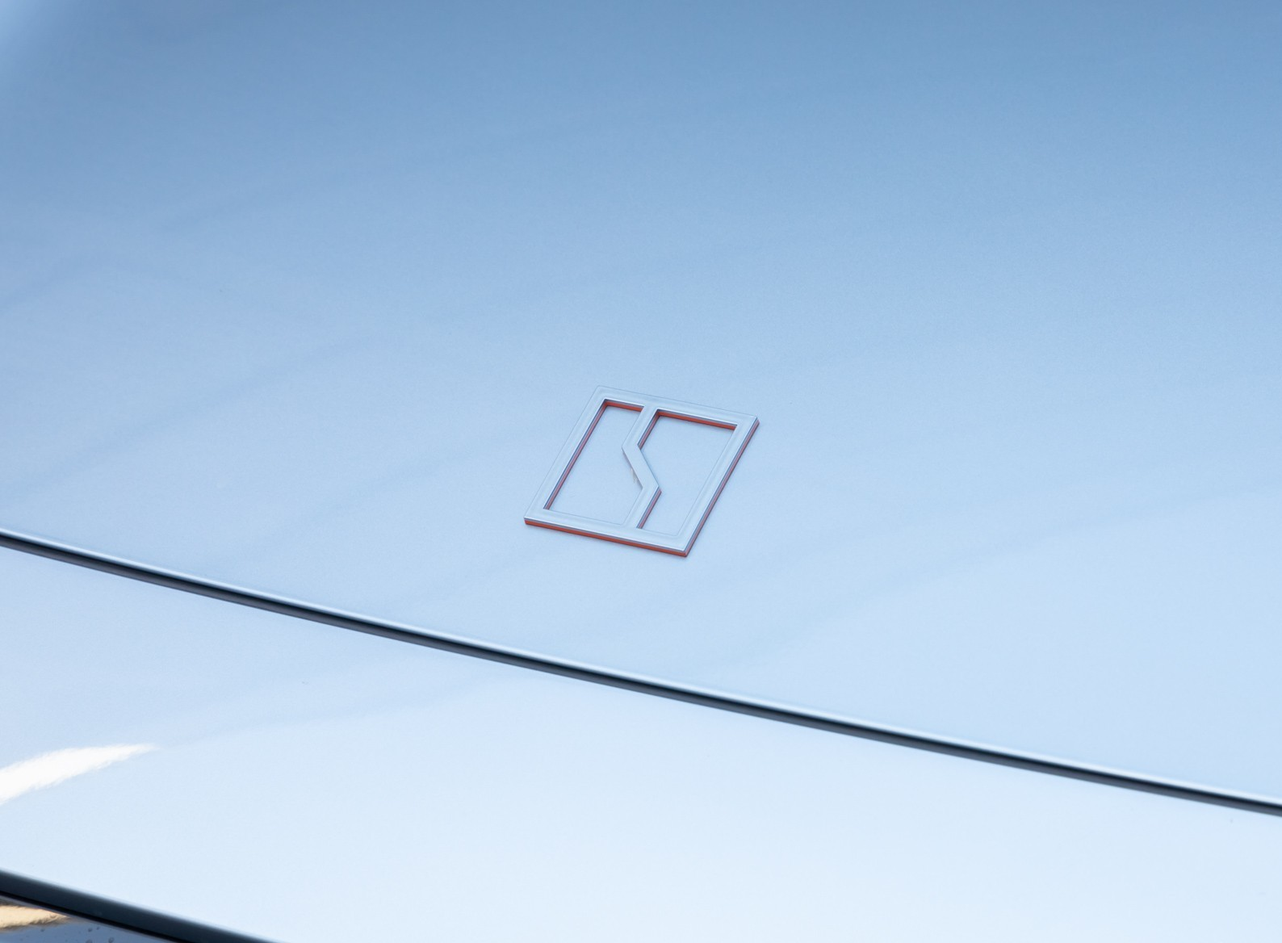ZEEKR: (525, 387, 758, 556)
